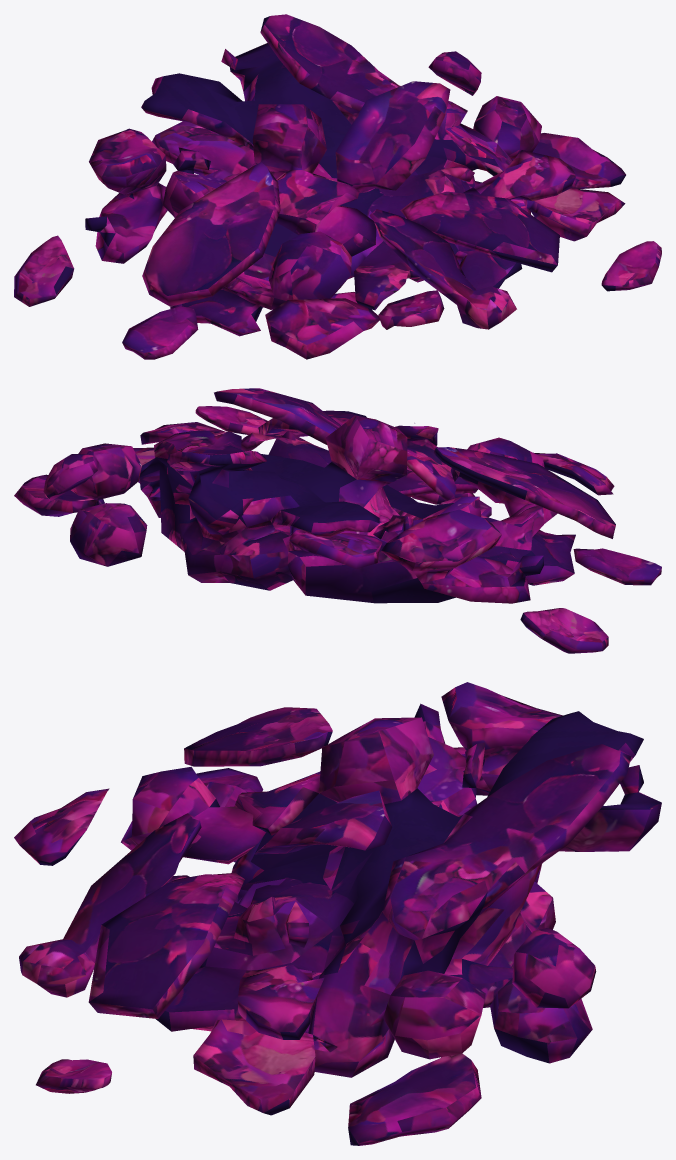
File: camomila_cortada.fbx
The picture shows the model from 3 angles, top to bottom: view 1: azimuth 30°, elevation 25°; view 2: azimuth 150°, elevation 25°; view 3: azimuth 270°, elevation 25°; orthographic projection. The views are drawn at different scales.
Visible parts, largest first — view 1: camomila; view 2: camomila; view 3: camomila.
Boxes of the visible parts, x1=… form: camomila: x1=14, y1=14, x2=661, y2=359; camomila: x1=14, y1=388, x2=661, y2=653; camomila: x1=14, y1=682, x2=661, y2=1145.
Bounding box in the file's own units: 54.8 × 14.57 × 38.05.
